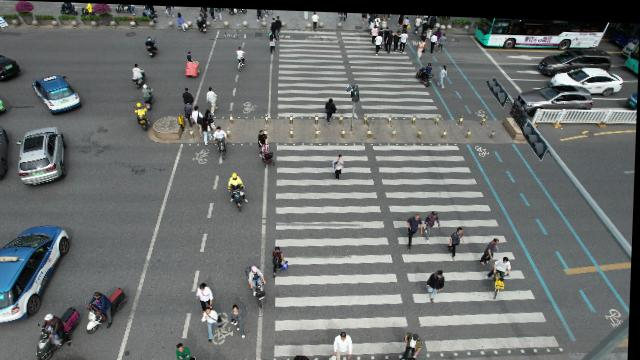non-motor-vehicle: (40, 305, 83, 359), (88, 285, 129, 326), (489, 251, 516, 297), (255, 127, 277, 165), (212, 126, 233, 161), (228, 171, 248, 201), (133, 102, 152, 129), (324, 96, 338, 122), (418, 62, 435, 83), (84, 2, 110, 15), (235, 44, 248, 70), (133, 64, 147, 88), (143, 36, 158, 57), (183, 58, 199, 77), (197, 14, 210, 32), (268, 31, 278, 53), (144, 87, 155, 106), (62, 2, 78, 14), (414, 14, 423, 31)
person: (200, 304, 230, 341), (399, 328, 431, 360), (332, 328, 361, 360), (405, 211, 427, 247), (427, 267, 450, 299), (196, 282, 221, 307), (448, 223, 469, 252), (175, 339, 203, 360), (426, 206, 440, 236), (334, 156, 347, 178), (15, 0, 36, 13), (488, 234, 501, 255), (206, 86, 219, 103), (181, 86, 194, 103), (310, 9, 322, 27), (274, 13, 283, 36), (194, 105, 206, 121), (375, 30, 383, 54), (418, 35, 426, 57), (430, 29, 438, 51), (279, 257, 292, 270), (387, 27, 394, 51), (401, 27, 408, 50), (439, 30, 447, 50), (335, 154, 346, 168), (384, 23, 391, 45), (402, 13, 411, 30), (177, 13, 186, 29), (441, 63, 450, 79), (371, 22, 378, 42), (394, 27, 400, 50), (294, 353, 313, 360), (427, 17, 434, 36), (421, 16, 428, 33), (234, 302, 243, 315), (435, 24, 442, 40), (184, 49, 193, 60), (339, 150, 347, 162), (177, 11, 184, 24), (271, 15, 276, 33), (335, 354, 345, 360), (375, 13, 380, 25)
